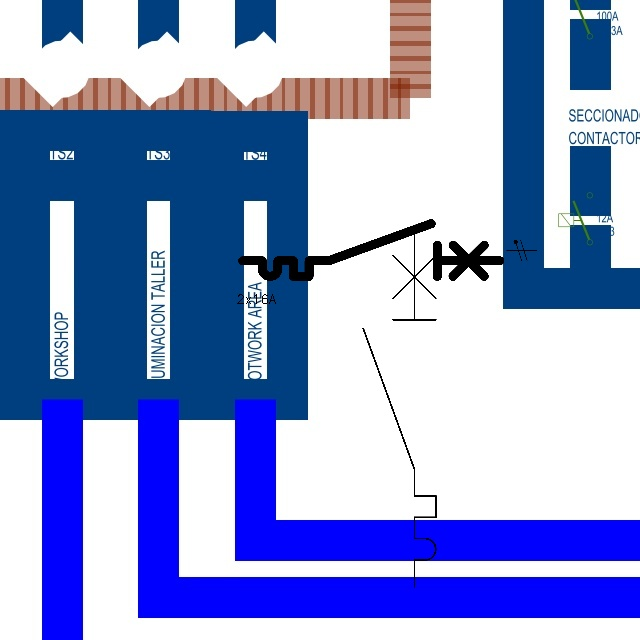interruptor_termomagnetico: (354, 225, 445, 596), (236, 217, 506, 283)
